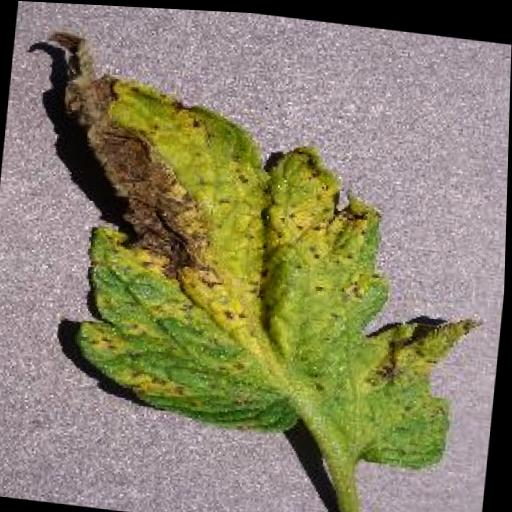Septoria: (20, 26, 509, 471)
